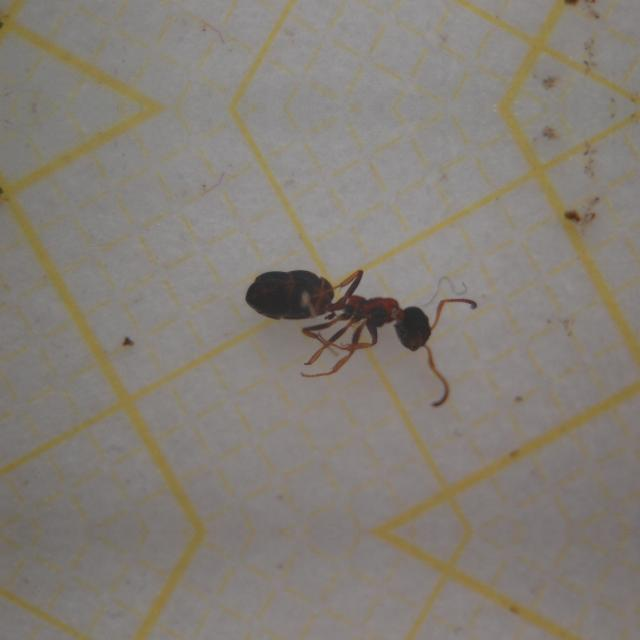Dolichoderus: (222, 235, 478, 372)
